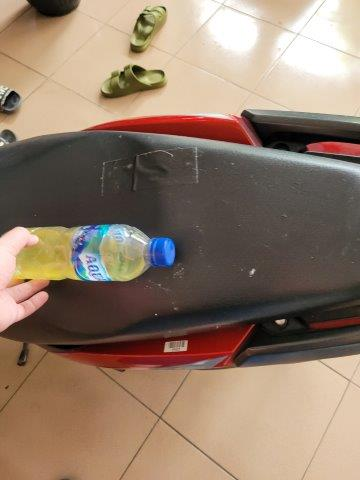botolplastik: (1, 223, 175, 283)
